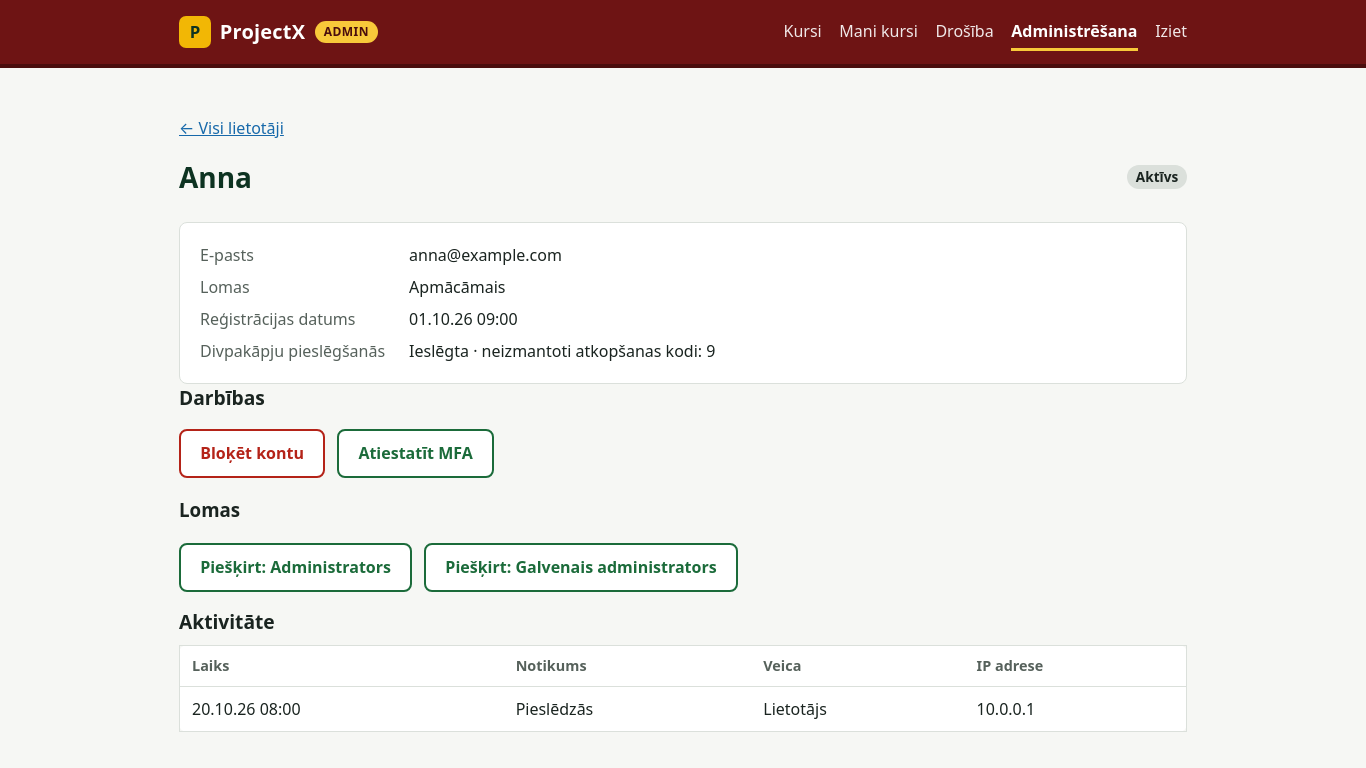
Scenario: admin user page › lets a super admin grant the admin role
Click the button "Piešķirt: Administrators" at (296, 568), box [179,543,412,592]
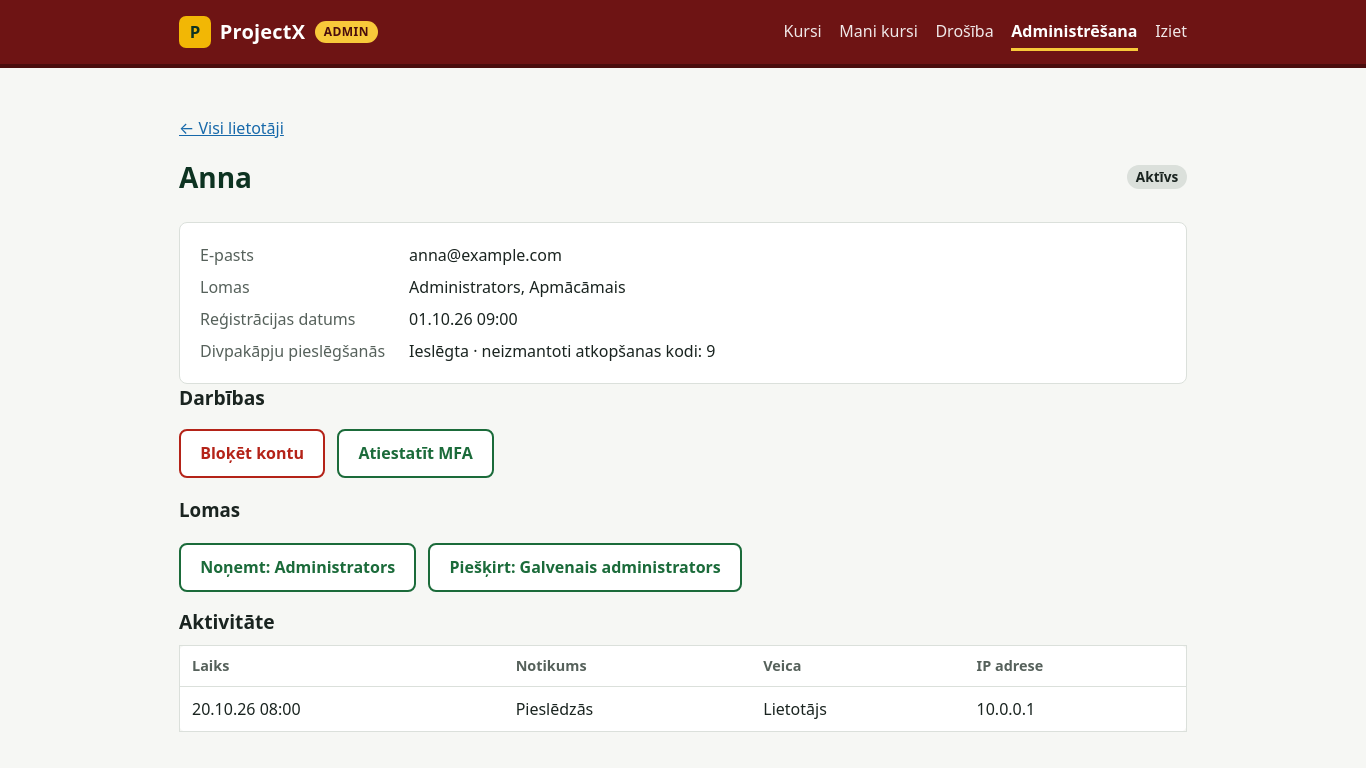
expect the button "Noņemt: Administrators" is shown: met, box [179,543,416,592]
